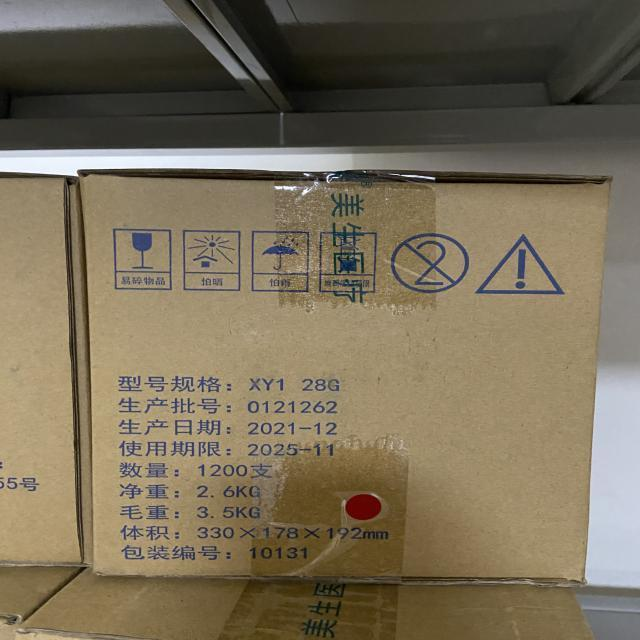box: (78, 168, 611, 586), (21, 566, 610, 640), (0, 169, 95, 569)
